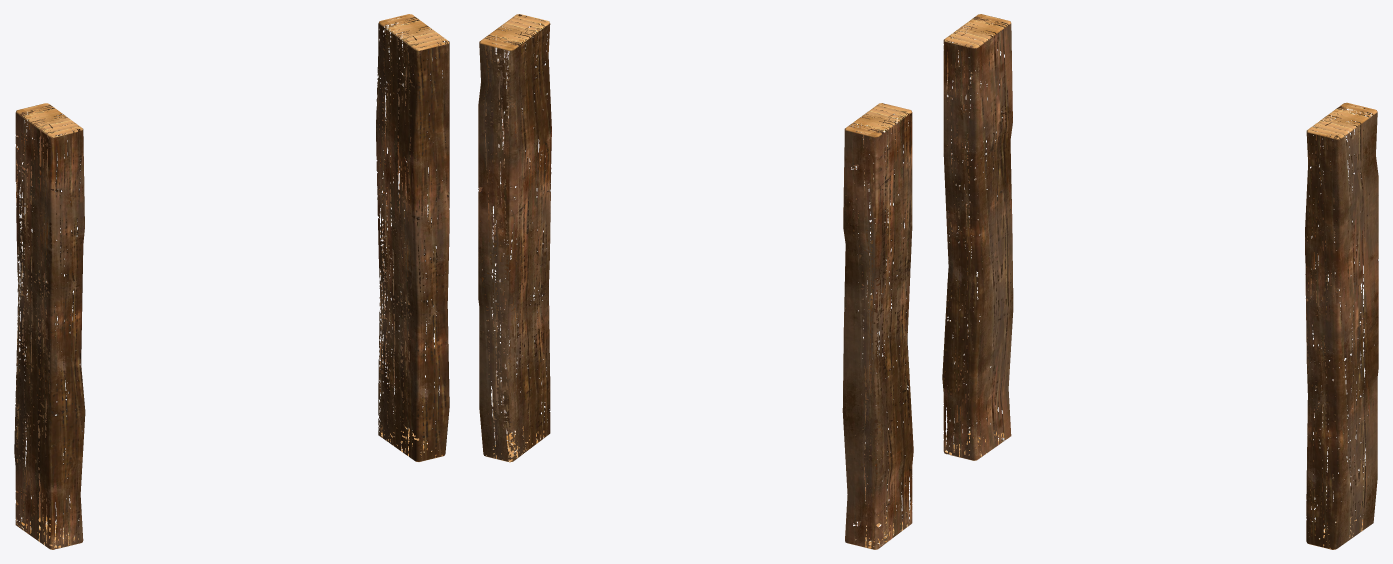
3 renders of one model, left to right at view 1: azimuth 30°, elevation 25°; view 2: azimuth 150°, elevation 25°; view 3: azimuth 330°, elevation 25°, orthographic.
Parts seen in each view (by area): view 1: SM_BB_T4_Wall_Doorframe_Double_Curved_LOD0; view 2: SM_BB_T4_Wall_Doorframe_Double_Curved_LOD0; view 3: SM_BB_T4_Wall_Doorframe_Double_Curved_LOD0.
Part boxes in pixels (x1,y1,x2,y2): SM_BB_T4_Wall_Doorframe_Double_Curved_LOD0: (14,14,449,549); SM_BB_T4_Wall_Doorframe_Double_Curved_LOD0: (478,14,913,549); SM_BB_T4_Wall_Doorframe_Double_Curved_LOD0: (942,14,1378,549).
Size of the model in its own units: 3.04 by 3.01 by 0.5408.
Materials: 1 (1 with a texture image).
